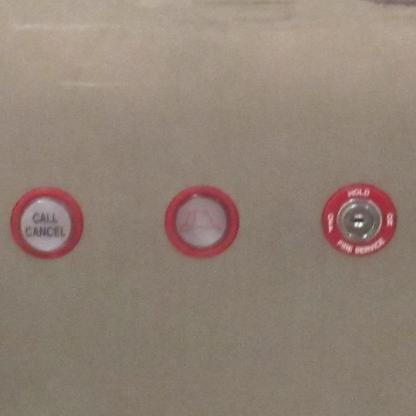hat: (161, 183, 240, 258)
keyhole: (319, 182, 397, 256)
text_CALL: (7, 186, 83, 260)
